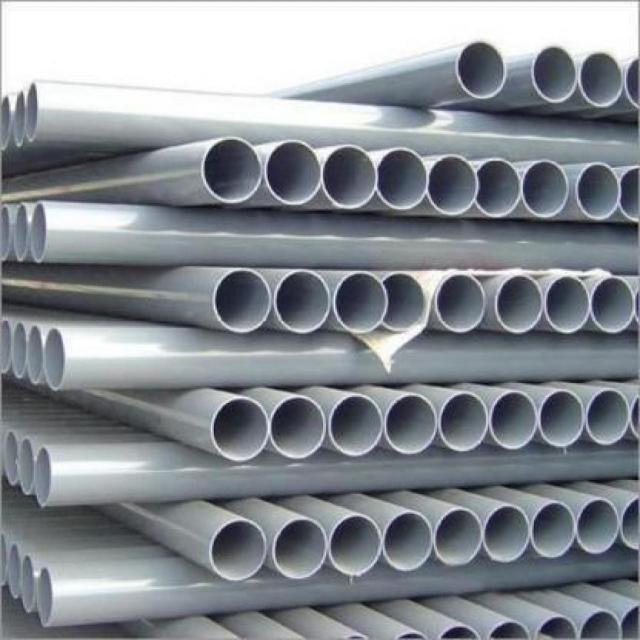pipe: (201, 137, 263, 203), (213, 268, 272, 333), (211, 397, 270, 462), (265, 139, 322, 206), (273, 270, 330, 333), (270, 396, 327, 459), (210, 519, 267, 581), (322, 146, 378, 209), (272, 517, 328, 580), (332, 273, 388, 333), (329, 394, 383, 456), (376, 147, 428, 210), (385, 393, 437, 455), (330, 515, 382, 577), (427, 155, 479, 216), (436, 273, 487, 333), (383, 511, 434, 571), (456, 41, 507, 100), (494, 274, 544, 333), (439, 392, 488, 452), (522, 159, 570, 218), (490, 391, 538, 450), (539, 389, 586, 449), (434, 508, 482, 566), (544, 274, 591, 333), (483, 505, 530, 564), (476, 158, 521, 219), (531, 45, 578, 103), (575, 163, 622, 220), (382, 272, 425, 332), (590, 276, 635, 333), (586, 389, 631, 446), (531, 502, 576, 559), (579, 52, 624, 108), (576, 499, 621, 554), (44, 327, 66, 392), (578, 609, 623, 638), (533, 616, 578, 639), (37, 568, 54, 627), (31, 202, 47, 264), (35, 447, 51, 508), (27, 326, 43, 386), (18, 436, 34, 496), (4, 430, 20, 487), (25, 81, 39, 143), (21, 553, 35, 613), (12, 321, 26, 380), (488, 621, 530, 640), (8, 542, 21, 599), (13, 91, 26, 148), (15, 202, 27, 263)
